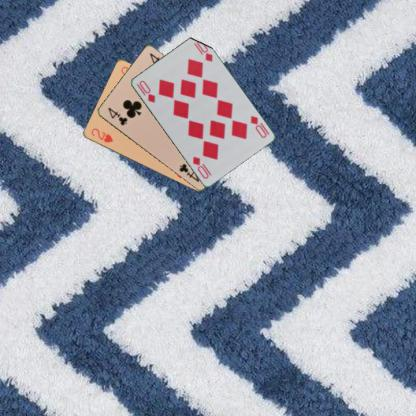10d: (133, 77, 156, 104), (248, 113, 270, 139)
2h: (88, 125, 114, 144)
4c: (105, 105, 129, 127)
